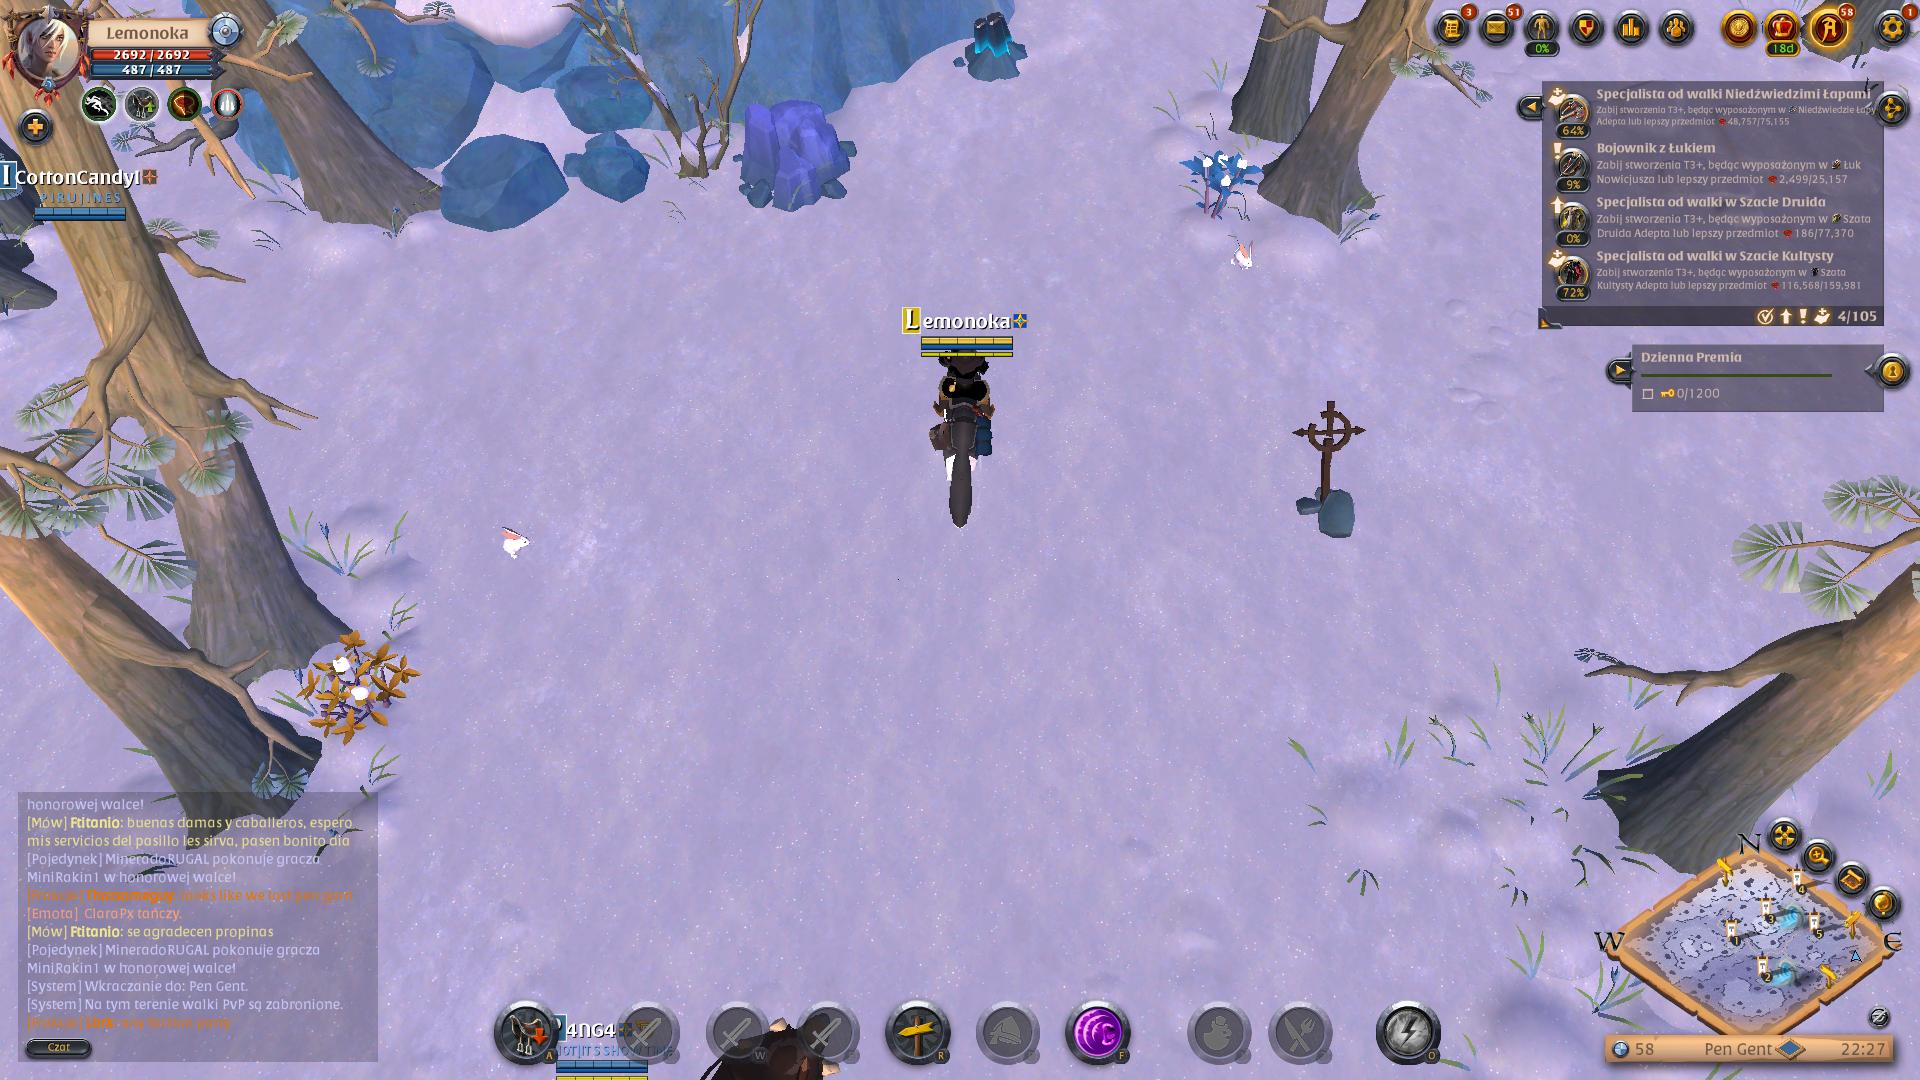fiber tier 2: (297, 625, 423, 744)
fiber tier 4: (1183, 145, 1267, 223)
ore tier 2: (953, 8, 1031, 84)
rock tier 4: (733, 90, 860, 215)
